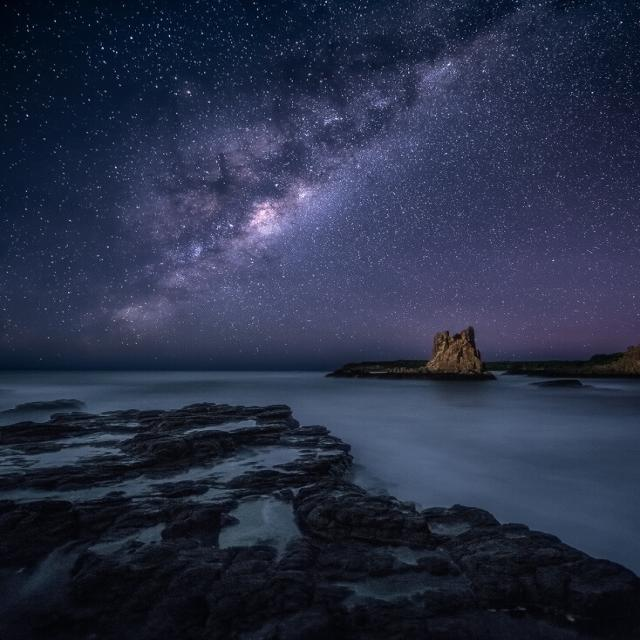reef: (33, 399, 640, 640)
